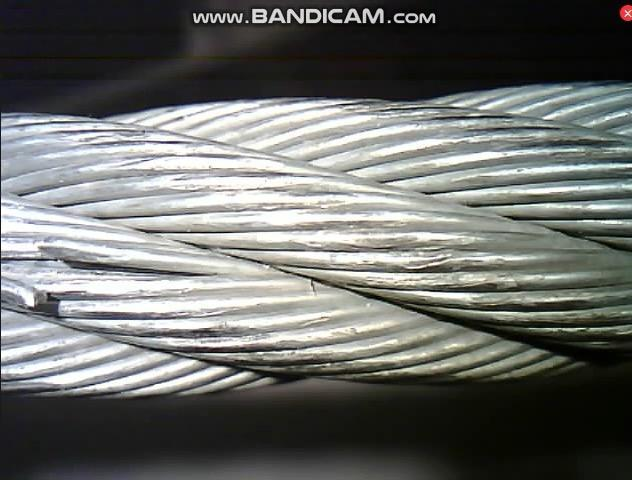break: (12, 229, 83, 329)
